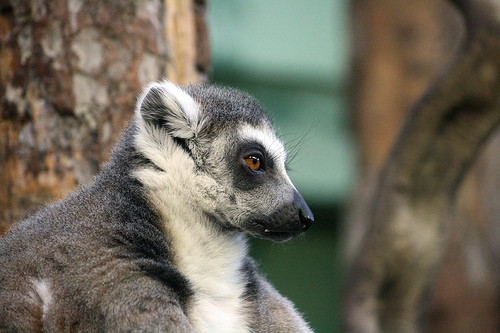cat: (0, 74, 327, 331)
